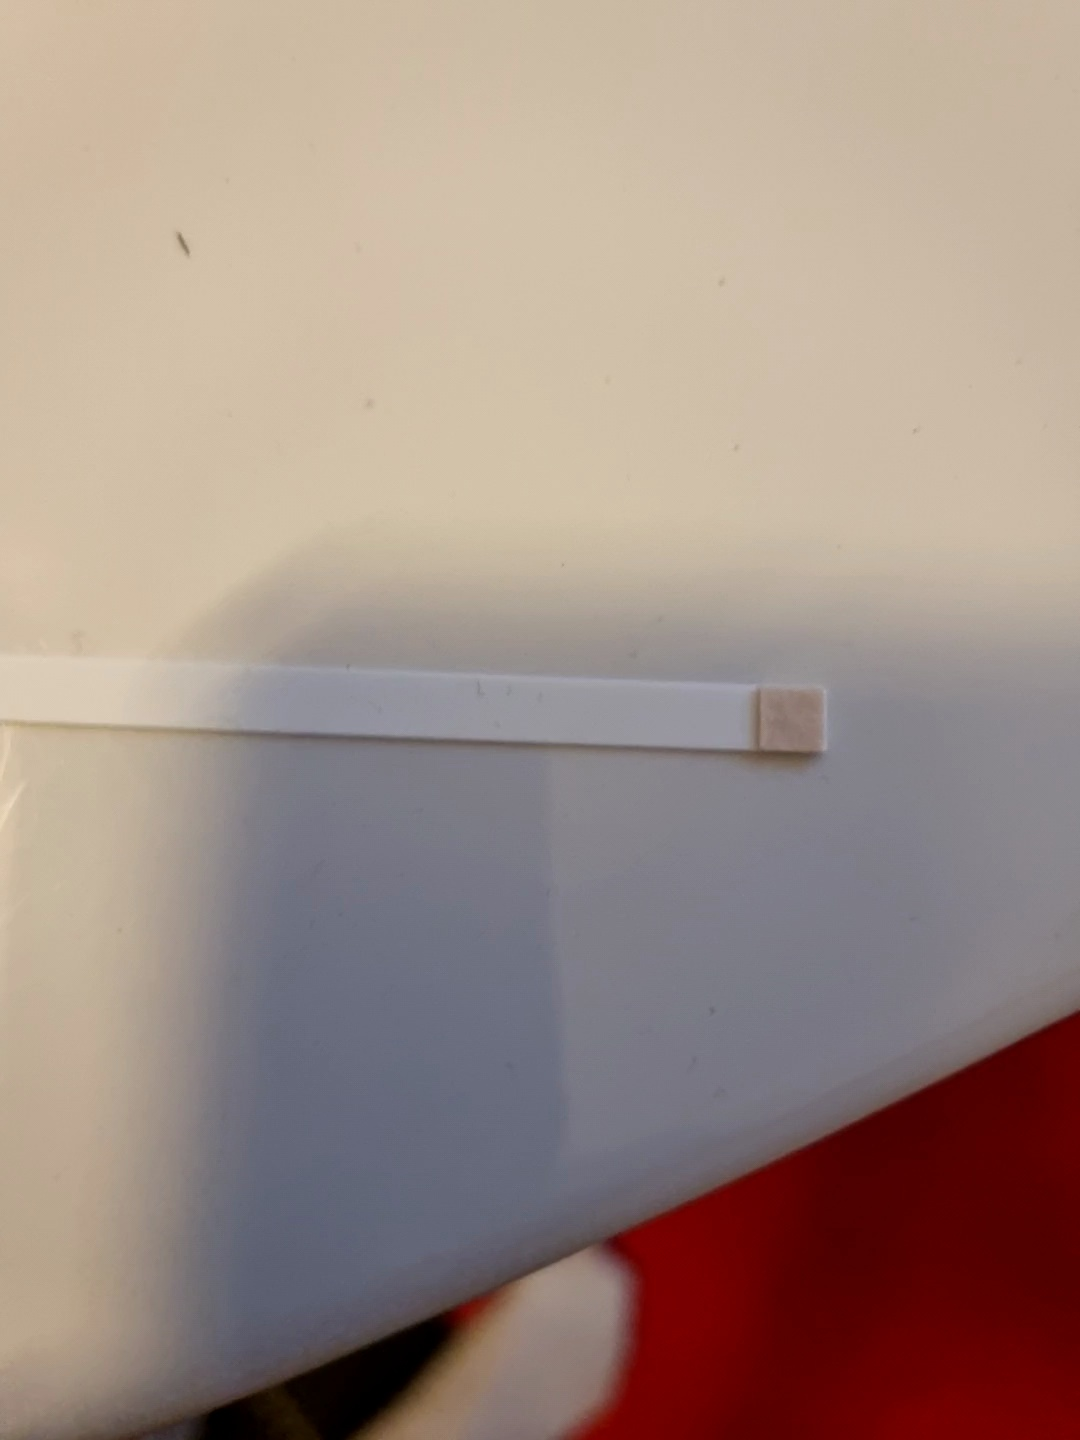keto-tip: (754, 680, 836, 763)
